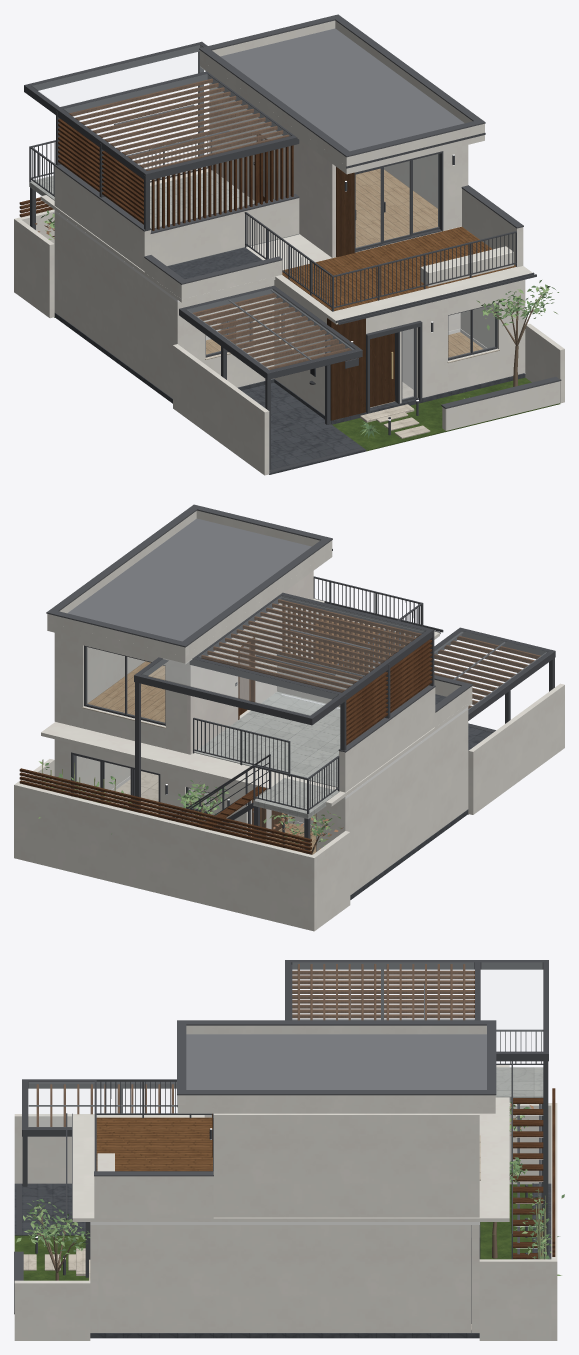
The model's file is architecture.glb.
3 renders of one model, top to bottom at view 1: azimuth 30°, elevation 25°; view 2: azimuth 150°, elevation 25°; view 3: azimuth 270°, elevation 25°, orthographic. The views are drawn at different scales.
Visible parts, largest first — view 1: Roof_L2_Lounge_Membrane, Wall_EW-W1, Roof_L2_Jemuran_GlassRoof, Floor_L2_EXT05_FrontBalcony, Roof_Carport_RainShield, Land_Perimeter_West_Carport, L2_Slab_StructuralPlate, Wall_L2_Jemuran_SouthBase, Floor_EXT01_Carport_Basalt, Wall_L2_Lounge_West_S, Roof_L2_StairCanopy_GlassRoof, Floor_L2_RM13_SkyLounge (+71 smaller); view 2: Land_Perimeter_North, Roof_L2_Lounge_Membrane, Wall_EW-W1, Roof_L2_Jemuran_GlassRoof, Floor_L2_RM12_Jemuran, Land_Perimeter_West_Carport, L2_Slab_StructuralPlate, Roof_L2_StairCanopy_GlassRoof, Roof_Carport_RainShield, Wall_L2_Jemuran_WestBase, WinGlass_L2_W7, Wall_L2_Lounge_West_N (+61 smaller); view 3: Wall_EW-E1, Wall_L2_Lounge_East, Roof_L2_Lounge_Membrane, Roof_L2_Jemuran_GlassRoof, L2_Slab_StructuralPlate, Floor_L2_EXT05_FrontBalcony, Land_Perimeter_East_Rear, Wall_L2_Balcony_EastWing, Roof_L2_StairCanopy_GlassRoof, Land_Perimeter_East_Front, Roof_Carport_RainShield, Land_Perimeter_West_Carport (+40 smaller).
Boxes of the visible parts, x1,y1,x2,y2 form: Roof_L2_Lounge_Membrane: (220,28,464,151); Wall_EW-W1: (58,215,183,398); Roof_L2_Jemuran_GlassRoof: (64,74,290,170); Floor_L2_EXT05_FrontBalcony: (282,226,515,311); Roof_Carport_RainShield: (187,289,353,369); Land_Perimeter_West_Carport: (173,344,269,475); L2_Slab_StructuralPlate: (40,166,532,324); Wall_L2_Jemuran_SouthBase: (151,198,299,265); Floor_EXT01_Carport_Basalt: (241,382,366,474); Wall_L2_Lounge_West_S: (273,130,335,257); Roof_L2_StairCanopy_GlassRoof: (32,45,205,106); Floor_L2_RM13_SkyLounge: (355,168,437,247); Land_Perimeter_North: (14,783,316,931); Roof_L2_Lounge_Membrane: (67,518,311,641); Wall_EW-W1: (349,709,468,894); Roof_L2_Jemuran_GlassRoof: (199,596,424,691); Floor_L2_RM12_Jemuran: (194,691,340,787); Land_Perimeter_West_Carport: (468,683,564,814); L2_Slab_StructuralPlate: (41,615,472,806); Roof_L2_StairCanopy_GlassRoof: (142,659,337,714); Roof_Carport_RainShield: (435,631,546,708); Wall_L2_Jemuran_WestBase: (339,687,435,792); WinGlass_L2_W7: (87,647,164,722); Wall_L2_Lounge_West_N: (187,634,238,754); Wall_EW-E1: (98,1225,471,1332); Wall_L2_Lounge_East: (213,1113,479,1217); Roof_L2_Lounge_Membrane: (186,1034,486,1089); Roof_L2_Jemuran_GlassRoof: (293,963,473,1019); L2_Slab_StructuralPlate: (72,1065,509,1221); Floor_L2_EXT05_FrontBalcony: (96,1117,212,1171); Land_Perimeter_East_Rear: (479,1259,551,1340); Wall_L2_Balcony_EastWing: (94,1176,213,1218); Roof_L2_StairCanopy_GlassRoof: (482,963,541,1050); Land_Perimeter_East_Front: (14,1280,90,1340); Roof_Carport_RainShield: (29,1082,176,1126); Land_Perimeter_West_Carport: (14,1114,94,1183).
Bounding box in the file's own units: 9.75 × 6.82 × 13.86.
43 materials, 20 textured.
